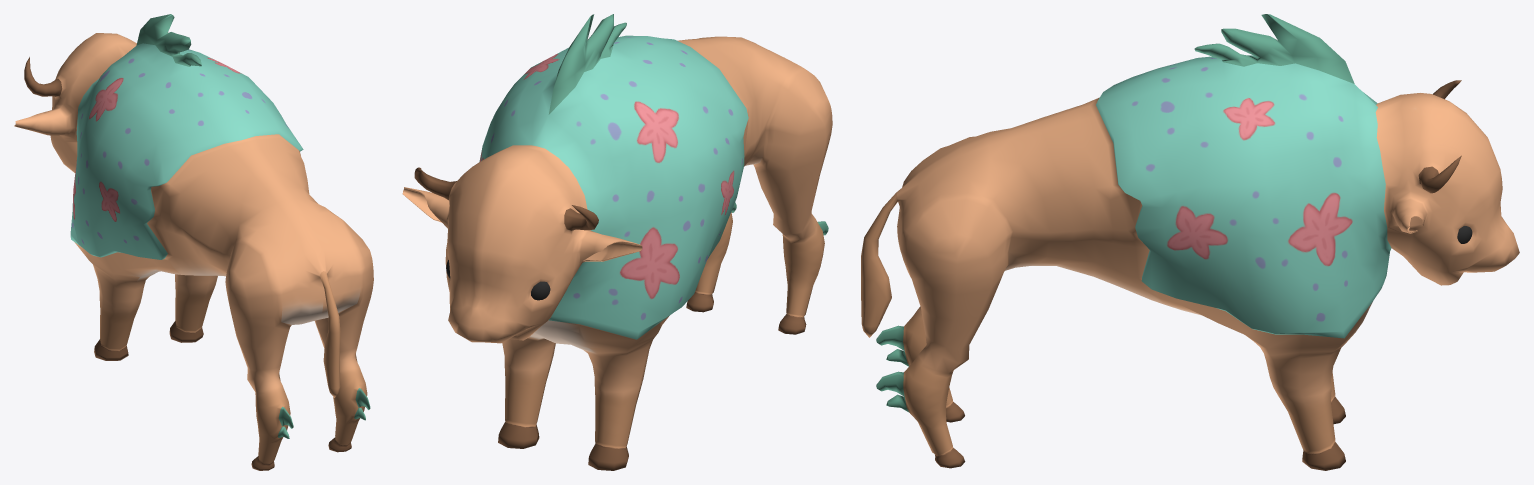
The model's file is bison.fbx.
3 views of the same model, side by side, from view 1: azimuth 30°, elevation 25°; view 2: azimuth 150°, elevation 25°; view 3: azimuth 270°, elevation 25° (orthographic). The views are drawn at different scales.
Parts seen in each view (by area): view 1: Bison2:polySurface8; view 2: Bison2:polySurface8; view 3: Bison2:polySurface8.
Boxes of the visible parts, x1,y1,x2,y2 form: Bison2:polySurface8: (14, 14, 373, 470); Bison2:polySurface8: (402, 14, 832, 470); Bison2:polySurface8: (861, 14, 1519, 470).
Bounding box in the file's own units: 6.55 × 10.89 × 15.26.
